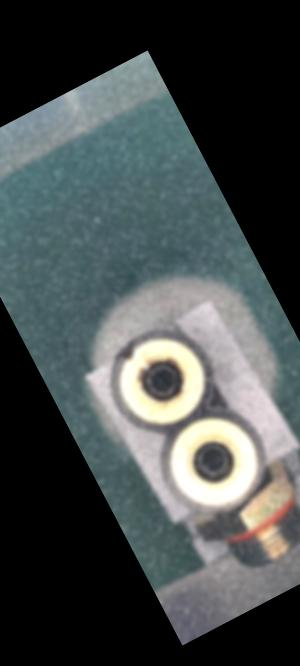bump: (112, 339, 145, 366)
